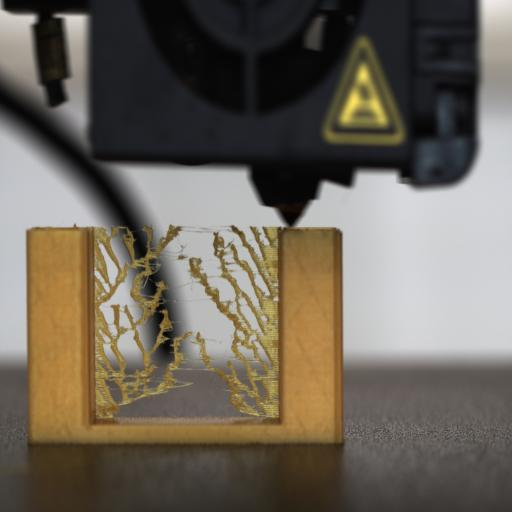stringing: (94, 226, 279, 418)
